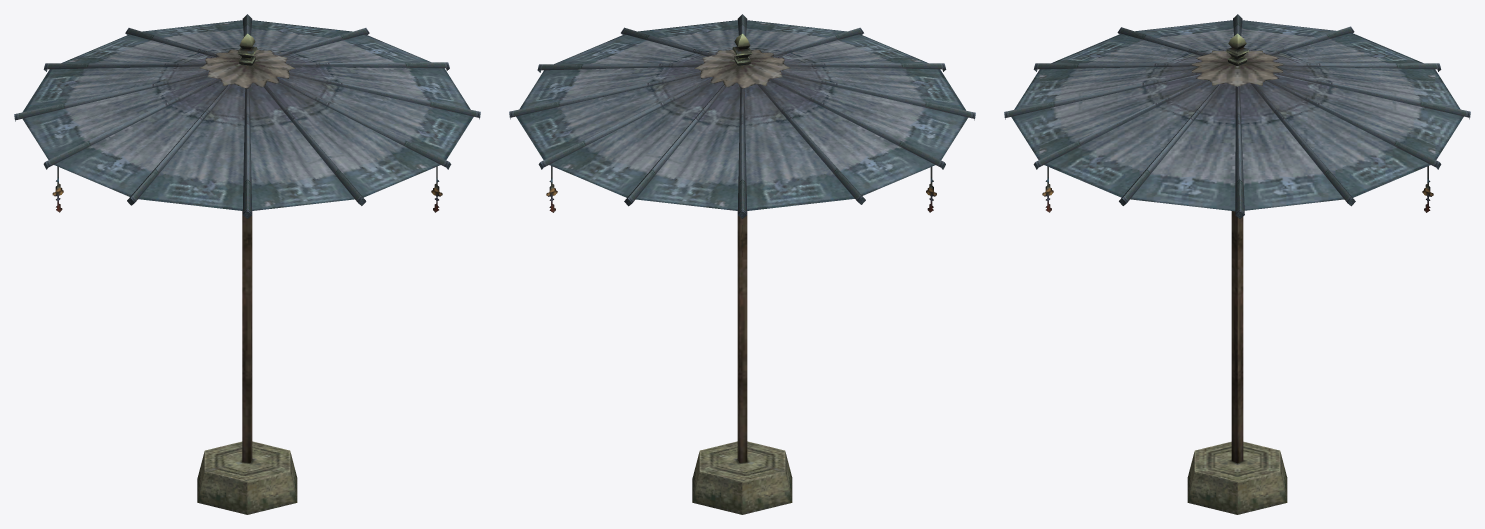
Rendered from standing_umbrella.obj.
3 renders of one model, left to right at view 1: azimuth 30°, elevation 25°; view 2: azimuth 150°, elevation 25°; view 3: azimuth 270°, elevation 25°, orthographic.
Visible parts, largest first — view 1: standing_umbrella; view 2: standing_umbrella; view 3: standing_umbrella.
Part boxes in pixels (box(x1,y1,x2,y2)): standing_umbrella: box(14, 14, 480, 514); standing_umbrella: box(509, 14, 975, 514); standing_umbrella: box(1004, 14, 1470, 514).
Bounding box in the file's own units: 2.18 × 2.35 × 2.18.
Materials: 1 (1 with a texture image).
